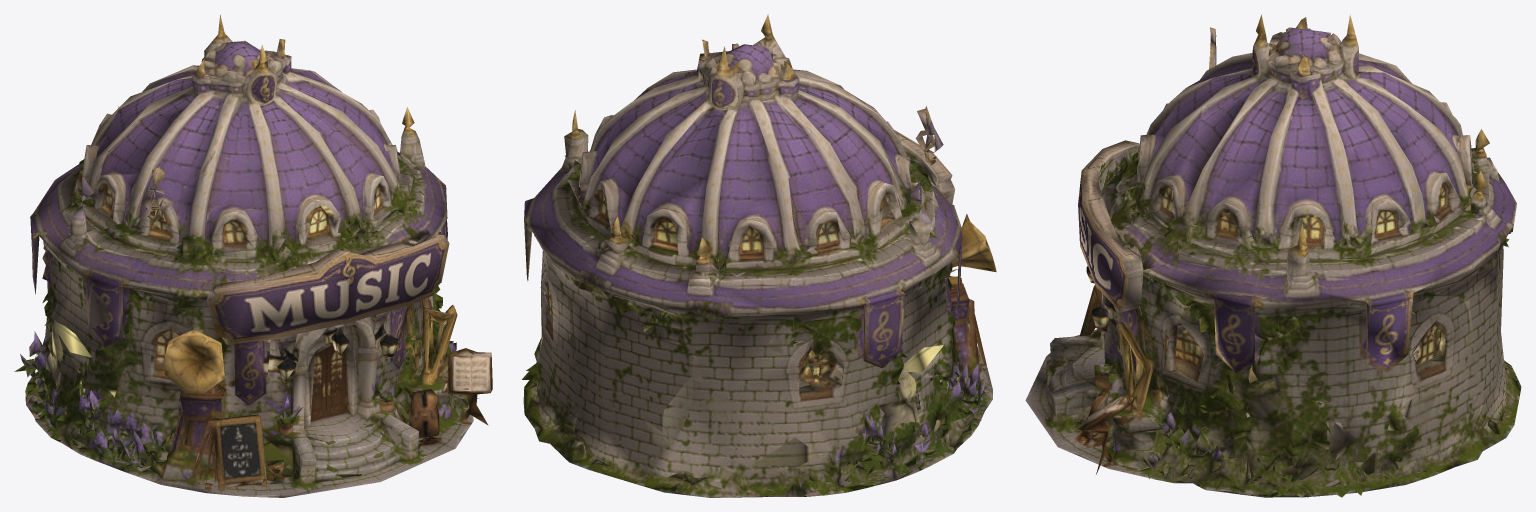
File: life-music.glb
The picture shows the model from 3 angles, left to right: view 1: azimuth 30°, elevation 25°; view 2: azimuth 150°, elevation 25°; view 3: azimuth 270°, elevation 25°; orthographic projection. The views are drawn at different scales.
Parts seen in each view (by area): view 1: Mesh1.0; view 2: Mesh1.0; view 3: Mesh1.0.
Part boxes in pixels (x1,y1,x2,y2): Mesh1.0: (14,15,492,497); Mesh1.0: (522,14,996,497); Mesh1.0: (1025,14,1521,497).
Bounding box in the file's own units: 1.83 × 1.63 × 1.9.
1 material, 1 textured.
